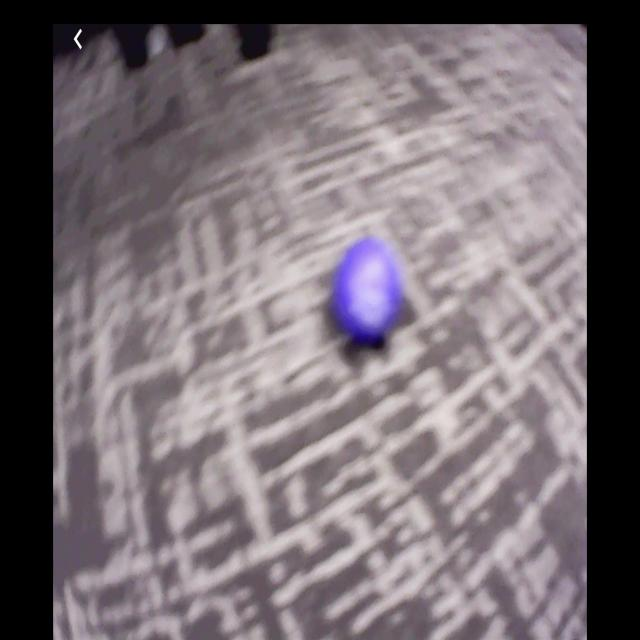ball: (335, 237, 403, 340)
